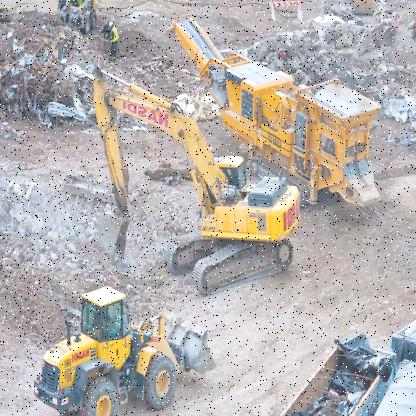excavator: (80, 64, 306, 303)
